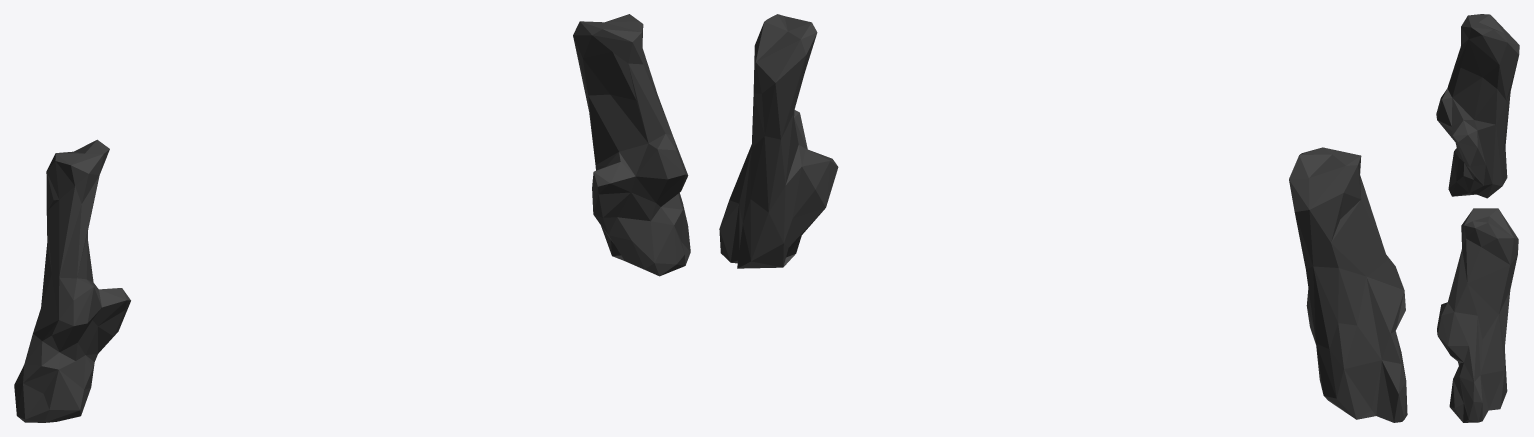
File: Calcaneus.glb
The picture shows the model from 3 angles, left to right: view 1: azimuth 30°, elevation 25°; view 2: azimuth 150°, elevation 25°; view 3: azimuth 270°, elevation 25°; orthographic projection. The views are drawn at different scales.
Parts seen in each view (by area): view 1: Calcaneus; view 2: Calcaneus; view 3: Calcaneus.
Part boxes in pixels (bbox=[...]): Calcaneus: bbox=[14, 14, 690, 422]; Calcaneus: bbox=[719, 14, 1407, 422]; Calcaneus: bbox=[1436, 14, 1519, 422].
Size of the model in its own units: 0.00541 by 0.00194 by 0.000783.
Materials: 1 (1 with a texture image).
